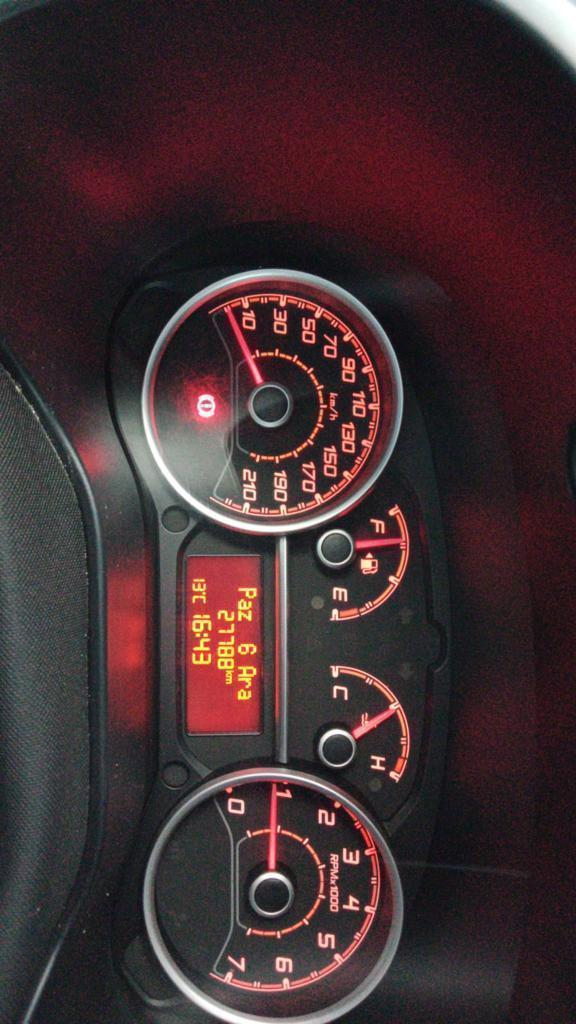1: (191, 613, 211, 619), (191, 577, 206, 582)
2: (216, 609, 235, 622)
3: (189, 651, 212, 665), (190, 582, 206, 591)
4: (190, 638, 211, 651)
6: (236, 642, 258, 656), (190, 619, 212, 632)
7: (216, 622, 235, 634), (217, 635, 234, 645)
8: (216, 645, 235, 657), (216, 658, 234, 669)
X: (236, 664, 257, 677), (236, 586, 257, 599), (237, 609, 252, 622), (236, 598, 253, 609), (236, 677, 252, 688), (236, 689, 251, 700), (190, 595, 206, 604), (224, 675, 232, 684), (194, 632, 208, 637), (224, 669, 234, 675)
odometer: (179, 549, 270, 741)
